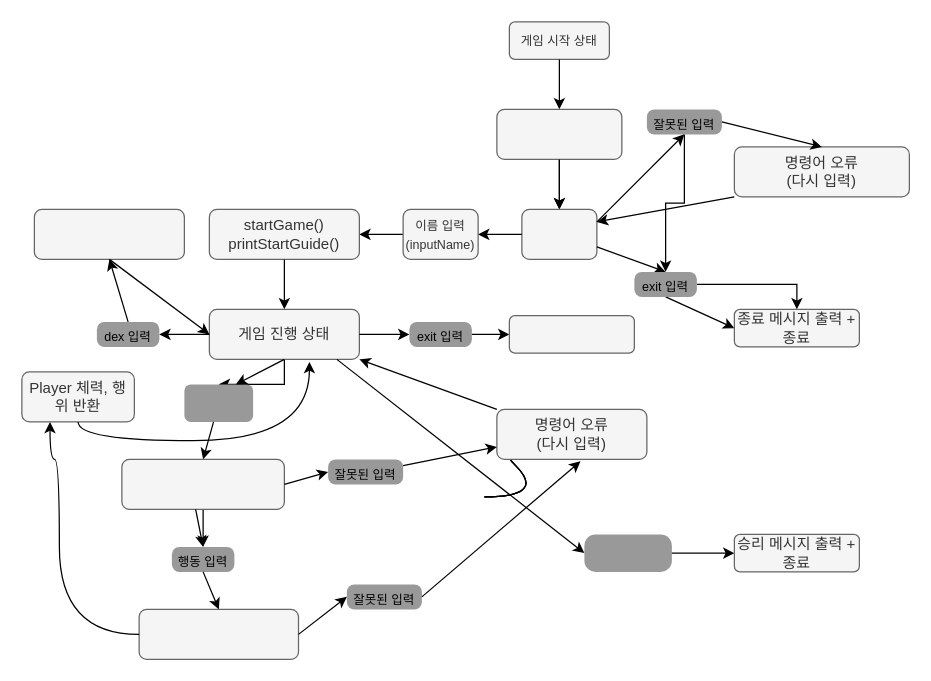
The diagram is 931 pixels wide and 681 high, and some of its shapes have lost their labels. The shapes that lost their labels are listed below. From the top down, each one's box as (x1, y1, x2, y2) in pixels, then its label:
(496, 108, 622, 159): PrintWelcome Message()
(33, 208, 184, 259): 도감 출력 (Monster 객체)
(521, 208, 597, 259): 명령어 입력 (inputString)
(508, 314, 634, 353): 메시지 출력 + 종료
(184, 384, 252, 421): go number 입력
(121, 458, 284, 509): exploreRegion() 호출
(584, 534, 671, 571): 모든 몬스터를 잡으면
(138, 608, 298, 659): Player에서 행동 메서드 호출
